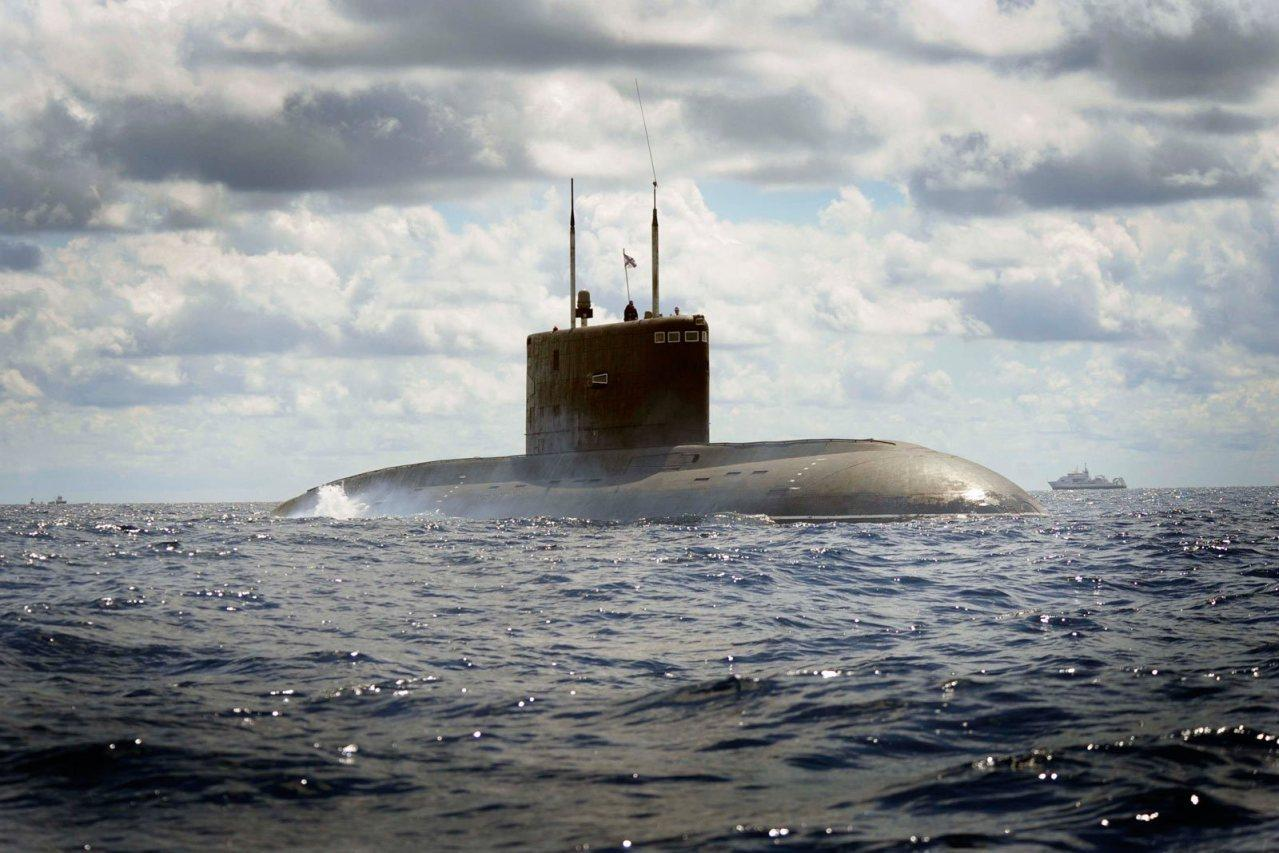Submarine: (172, 130, 1158, 630)
